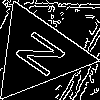N: (12, 28, 76, 85)
